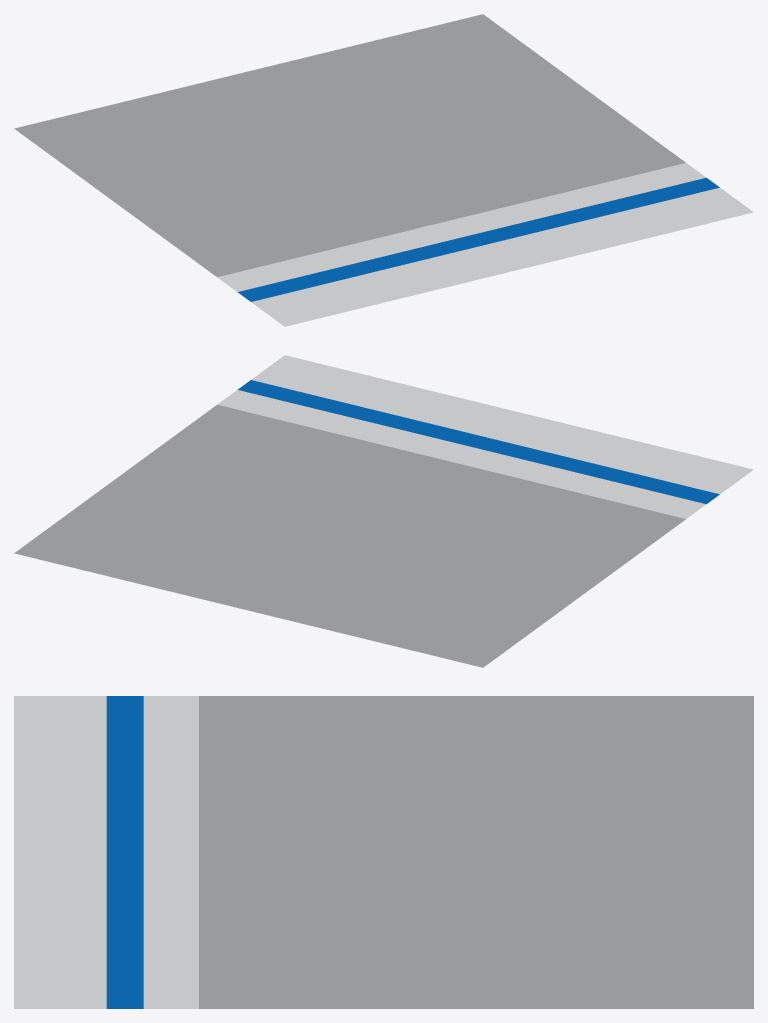
The model's file is Ceiling_type_A_015.fbx.
3 views of the same model, one above another, from view 1: azimuth 30°, elevation 25°; view 2: azimuth 150°, elevation 25°; view 3: azimuth 270°, elevation 25° (orthographic). The views are drawn at different scales.
Visible parts, largest first — view 1: Ceiling_type_A_015; view 2: Ceiling_type_A_015; view 3: Ceiling_type_A_015.
Part boxes in pixels (x1,y1,x2,y2): Ceiling_type_A_015: (14,14,753,326); Ceiling_type_A_015: (14,355,753,667); Ceiling_type_A_015: (14,696,753,1008).
Bounding box in the file's own units: 400 × 400 × 5.71.
